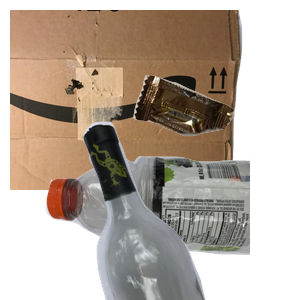cardboard: (10, 10, 245, 190)
glass: (81, 120, 300, 300)
plastic: (43, 152, 283, 300)
trash: (131, 73, 300, 202)
